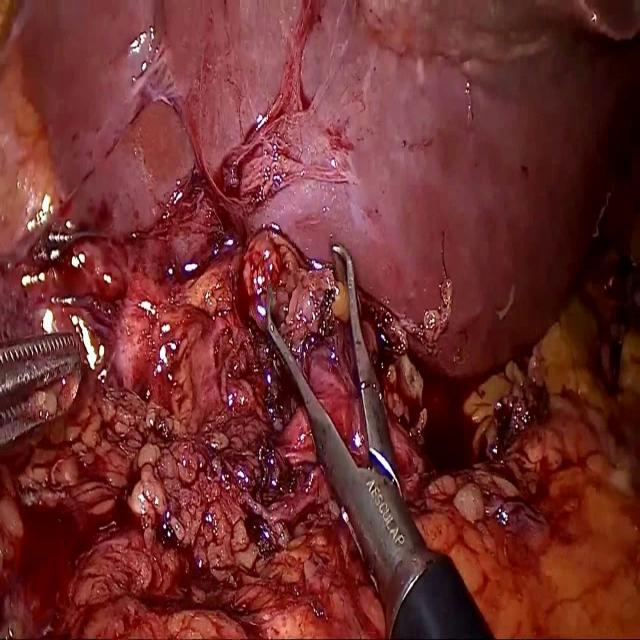surgical-tool: (266, 244, 496, 639), (0, 332, 80, 449)
